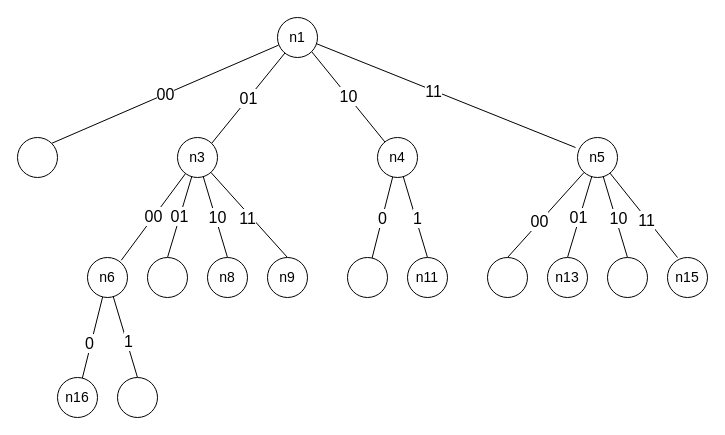
This 725x435 diagram has some shape labels left out. The shapes that lost their labels are listed below. From the top down, each one's centre as x and y in pixels, then its label:
At (37,157): "n2".
At (167,277): "n7".
At (367,277): "n10".
At (507,277): "n12".
At (627,277): "n14".
At (137,397): "n17".
